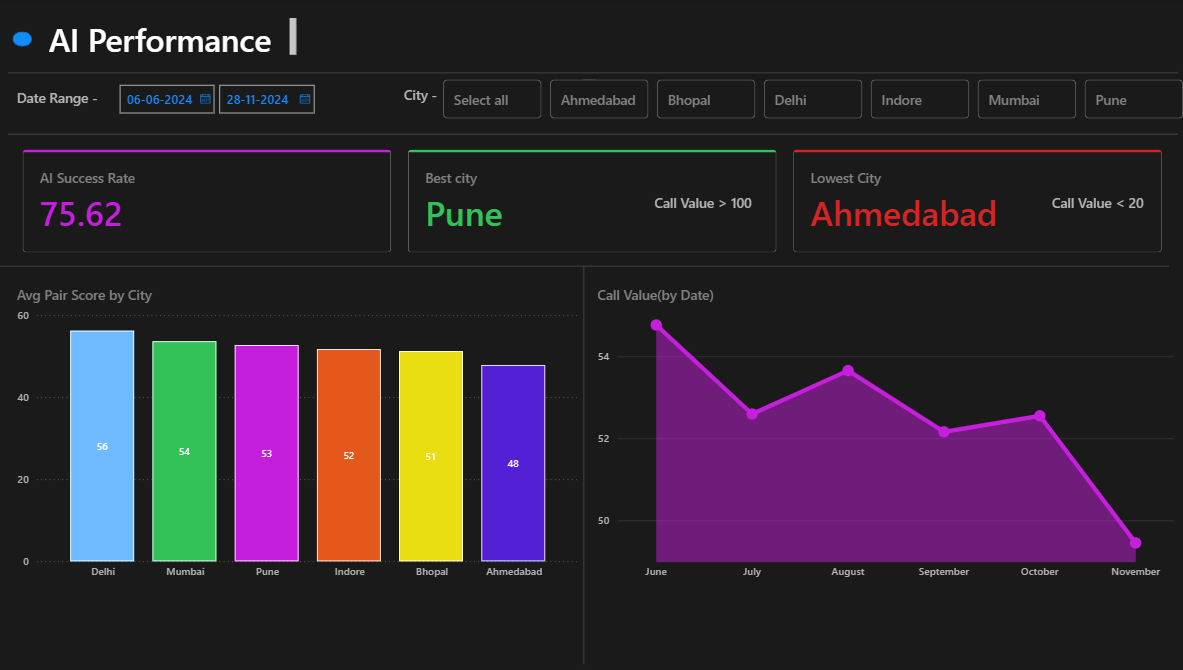

Layout of this report page (visuals, bound fields, positions):
{"tool":"powerbi","page":{"name":"AI Performance","canvas":[1400,800],"ordinal":2},"visuals":[{"type":"cardVisual","fields":{"Data":["All Measures.AI Success Rate","Max(clients.city)","Min(clients.city)"]},"box":[10.6,162.6,1378.5,155.5],"z":0},{"type":"textbox","box":[15.9,102.5,113.1,37.1],"z":1000},{"type":"shape","box":[10.6,136.1,1378.5,51.3],"z":2000},{"type":"shape","box":[10.6,58.3,1378.5,61.9],"z":3000},{"type":"shape","box":[0,279.2,1378.5,76],"z":4000},{"type":"advancedSlicerVisual","fields":{"Values":["clients.city"]},"box":[518,92,882,56],"z":5000},{"type":"textbox","box":[471.9,99,90.1,37.1],"z":6000},{"type":"shape","box":[15.9,40.6,23,17.7],"z":7000},{"type":"textbox","box":[53,19.4,302.2,56.6],"z":8000},{"type":"slicer","fields":{"Values":["calls.call_date"]},"box":[129,93.7,251,53],"z":9000},{"type":"areaChart","title":"Call Value(by Date)","fields":{"Category":["calls.call_date.Variation.Date Hierarchy.Month"],"Y":["All Measures.Avg Pair Score"]},"box":[699.9,339.3,689.3,355.2],"z":10000},{"type":"clusteredColumnChart","title":"Avg Pair Score by City","fields":{"Category":["clients.city"],"Y":["All Measures.Avg Pair Score"]},"box":[0,339.3,689.3,355.2],"z":11000},{"type":"shape","box":[654,318,70,468],"z":12000},{"type":"textbox","box":[767,226.2,137.9,37.1],"z":13000},{"type":"textbox","box":[1235.4,226.2,127.2,37.1],"z":14000}]}

Visuals, with their boxes in screenshot pixels (x1, y1, x2, y2), scaled from the page's 1400x800 canvas onto the 1183x670 screenshot:
cardVisual - All Measures.AI Success Rate x Max(clients.city): box(9, 136, 1174, 266)
textbox: box(13, 86, 109, 117)
shape: box(9, 114, 1174, 157)
shape: box(9, 49, 1174, 101)
shape: box(0, 234, 1165, 297)
advancedSlicerVisual - clients.city: box(438, 77, 1182, 124)
textbox: box(399, 83, 475, 114)
shape: box(13, 34, 33, 49)
textbox: box(45, 16, 300, 64)
slicer - calls.call_date: box(109, 78, 321, 123)
"Call Value(by Date)" areaChart: box(591, 284, 1174, 582)
"Avg Pair Score by City" clusteredColumnChart: box(0, 284, 582, 582)
shape: box(553, 266, 612, 658)
textbox: box(648, 189, 765, 221)
textbox: box(1044, 189, 1151, 221)
